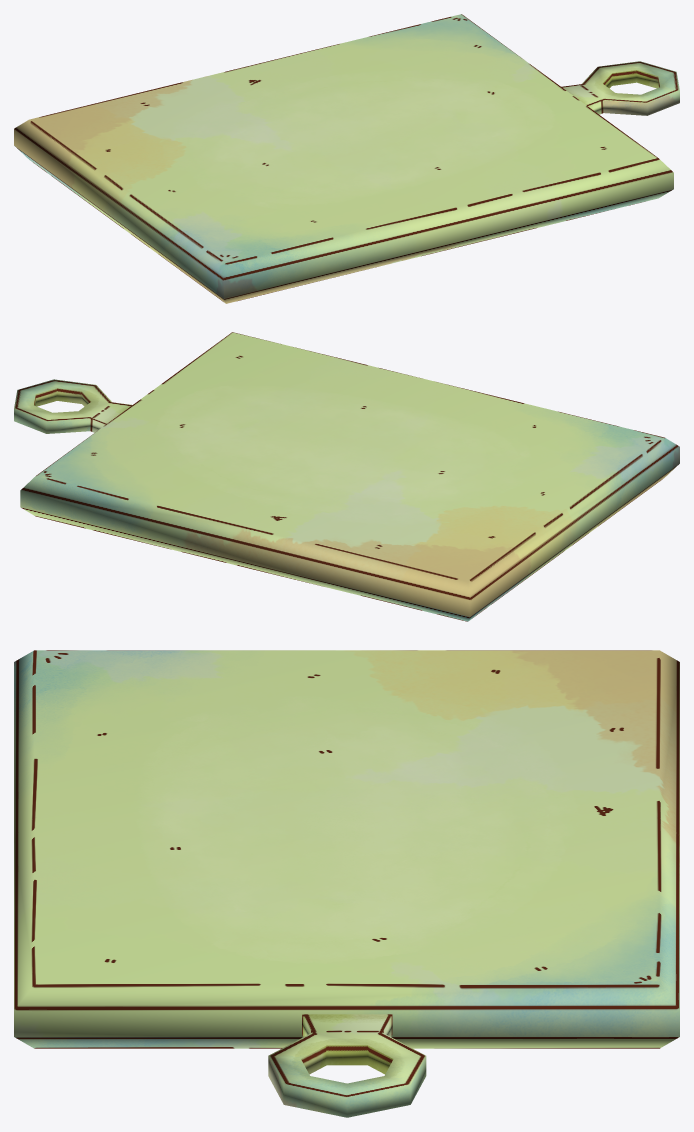
The model's file is veggie board.fbx.
3 views of the same model, one above another, from view 1: azimuth 30°, elevation 25°; view 2: azimuth 150°, elevation 25°; view 3: azimuth 270°, elevation 25° (orthographic). The views are drawn at different scales.
Visible parts, largest first — view 1: veggie_board; view 2: veggie_board; view 3: veggie_board.
Part boxes in pixels (bbox=[...]): veggie_board: bbox=[14, 14, 679, 303]; veggie_board: bbox=[14, 332, 679, 621]; veggie_board: bbox=[14, 650, 679, 1117].
Size of the model in its own units: 76.6 by 5.28 by 49.92.
